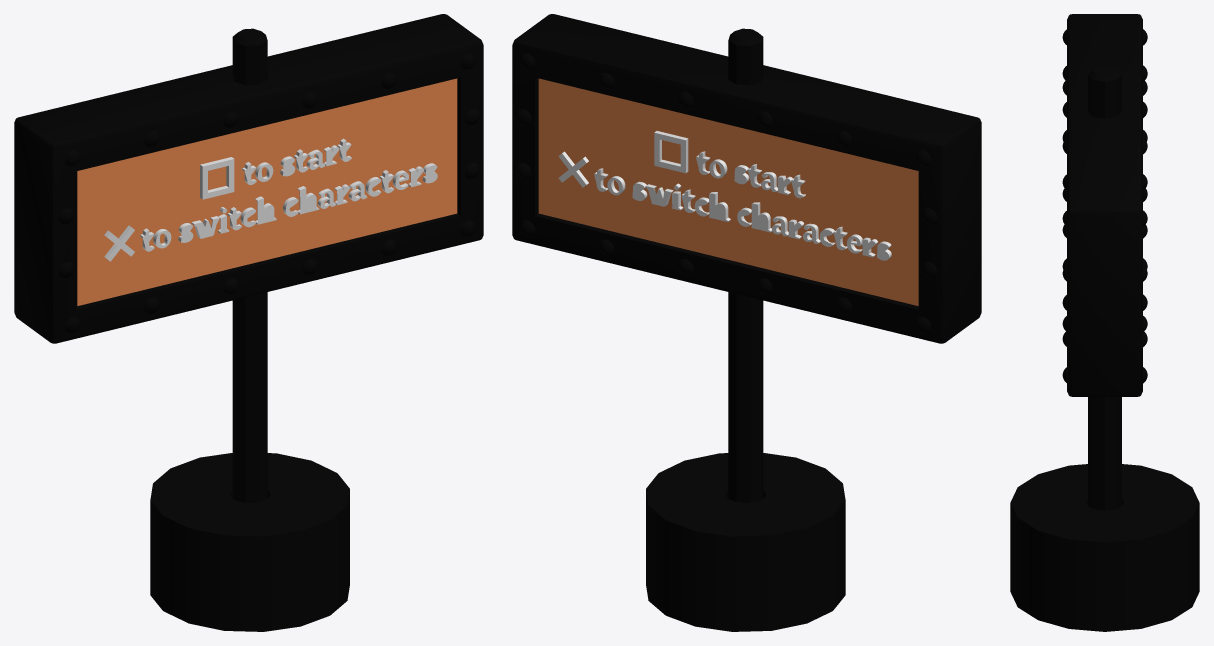
3 renders of one model, left to right at view 1: azimuth 30°, elevation 25°; view 2: azimuth 150°, elevation 25°; view 3: azimuth 270°, elevation 25°, orthographic. The views are drawn at different scales.
Parts seen in each view (by area): view 1: outer, inner, base, rod, text, bullets; view 2: outer, inner, base, rod, text, bullets; view 3: outer, base, rod, bullets.
Boxes of the visible parts, box(x1,y1,x2,y2) form: outer: box(14, 14, 483, 343); inner: box(77, 78, 457, 305); base: box(150, 453, 349, 631); rod: box(232, 28, 267, 502); text: box(104, 138, 437, 261); bullets: box(58, 53, 479, 333); outer: box(512, 14, 981, 343); inner: box(538, 78, 918, 305); base: box(646, 453, 845, 631); rod: box(728, 28, 763, 502); text: box(558, 131, 891, 260); bullets: box(516, 53, 937, 333); outer: box(1067, 14, 1142, 396); base: box(1010, 464, 1199, 631); rod: box(1088, 65, 1121, 510); bullets: box(1062, 29, 1147, 383).
Bounding box in the file's own units: 296 × 364 × 119.
